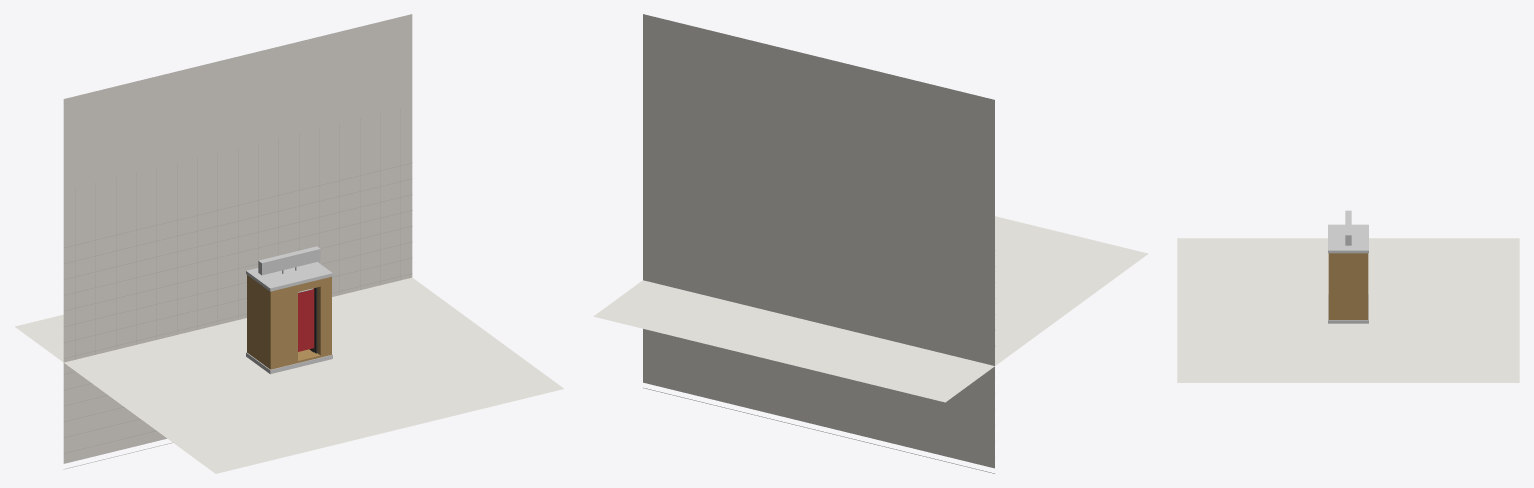
3 renders of one model, left to right at view 1: azimuth 30°, elevation 25°; view 2: azimuth 150°, elevation 25°; view 3: azimuth 270°, elevation 25°, orthographic. The views are drawn at different scales.
Parts seen in each view (by area): view 1: Piano, Piano.001, BoothBody, Cubo.002, SignOuter; view 2: Piano, Piano.001; view 3: Piano.001, BoothBody, Cubo.002.
Part boxes in pixels (x1,y1,x2,y2): Piano: [63, 14, 412, 463]; Piano.001: [15, 277, 563, 473]; BoothBody: [247, 275, 331, 369]; Cubo.002: [246, 262, 332, 291]; SignOuter: [258, 246, 320, 275]; Piano: [643, 14, 994, 468]; Piano.001: [593, 216, 1148, 402]; Piano.001: [1177, 238, 1519, 382]; BoothBody: [1328, 253, 1368, 319]; Cubo.002: [1328, 224, 1368, 253].
Bounding box in the file's own units: 18 × 18.27 × 18.
